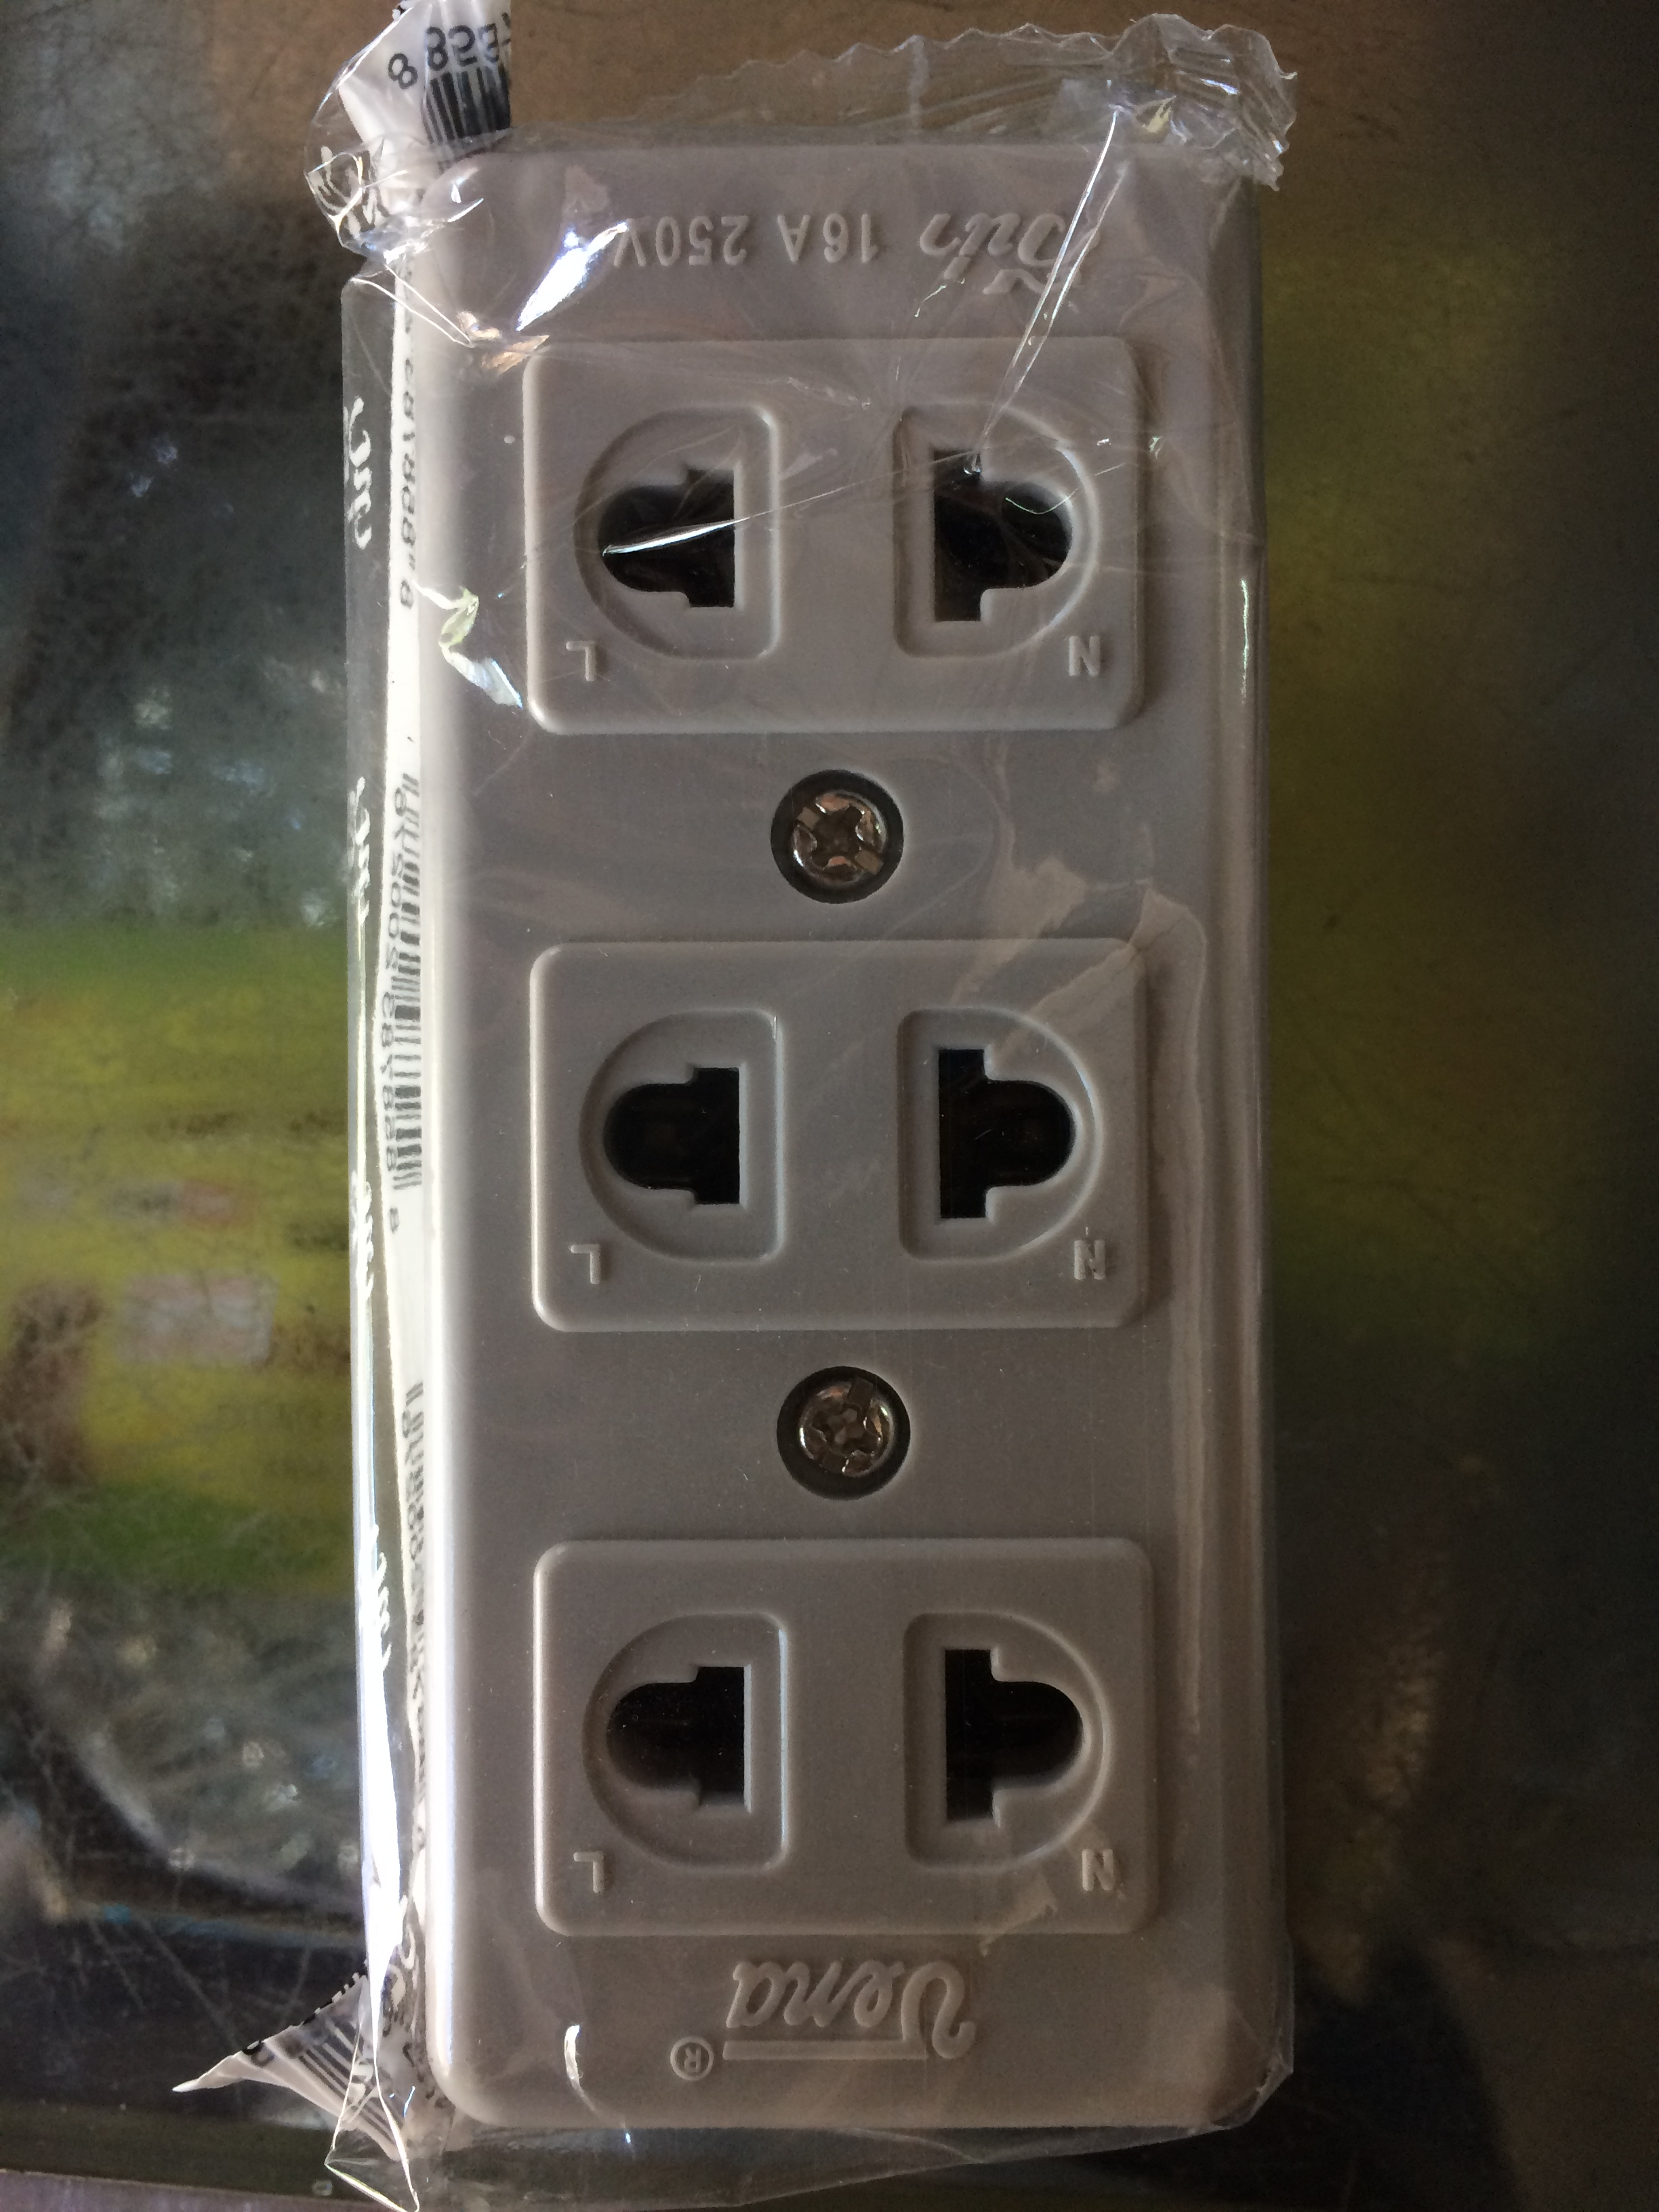Three_eye_plug: (319, 89, 1359, 2160)
